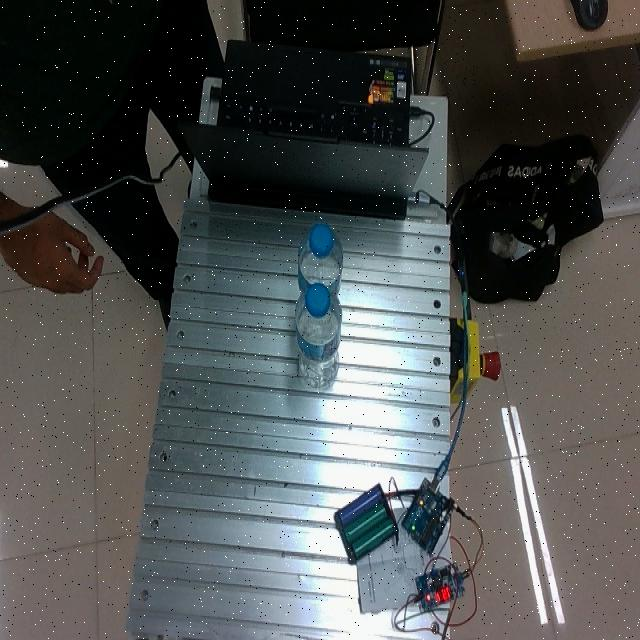lavie: (295, 281, 343, 388), (297, 224, 344, 300)
